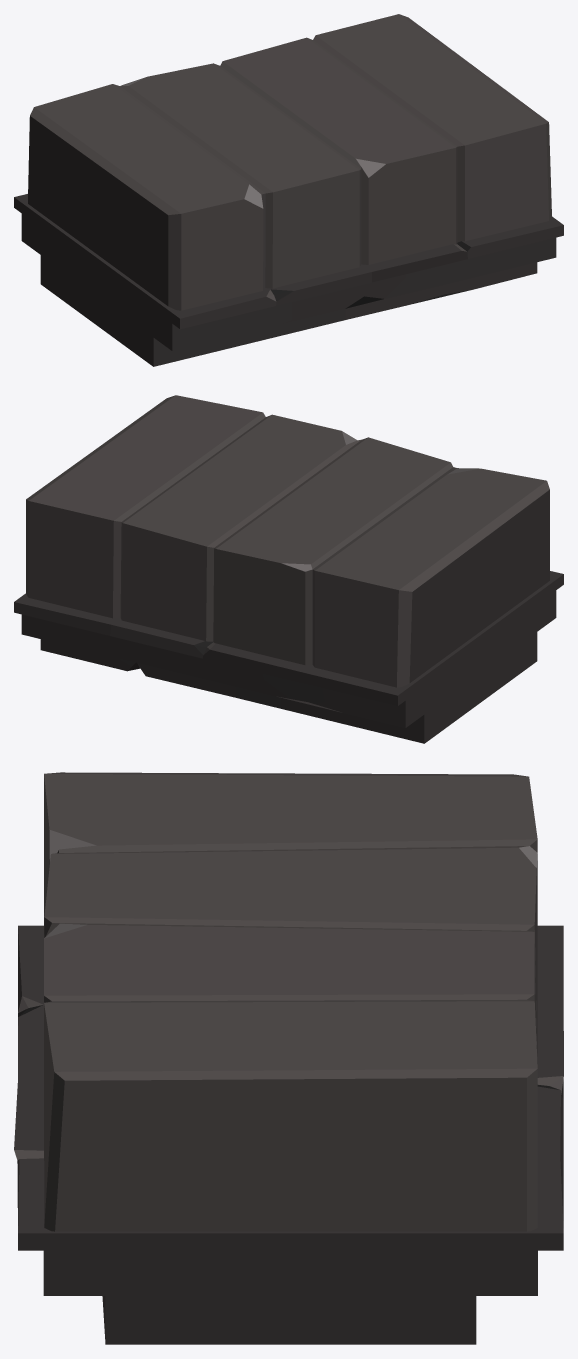
The model's file is Pillar_Top_Stones_Big_01.glb.
3 renders of one model, top to bottom at view 1: azimuth 30°, elevation 25°; view 2: azimuth 150°, elevation 25°; view 3: azimuth 270°, elevation 25°, orthographic. The views are drawn at different scales.
Visible parts, largest first — view 1: Pillar_Top_Stones_Big_01; view 2: Pillar_Top_Stones_Big_01; view 3: Pillar_Top_Stones_Big_01.
Boxes of the visible parts, left/top/right/bottom form: Pillar_Top_Stones_Big_01: left=14, top=14, right=563, bottom=366; Pillar_Top_Stones_Big_01: left=14, top=395, right=563, bottom=743; Pillar_Top_Stones_Big_01: left=14, top=772, right=563, bottom=1344.
Size of what is drawn, in the model's own units: 4 by 1.64 by 3.02.
Materials: 1 (1 with a texture image).
